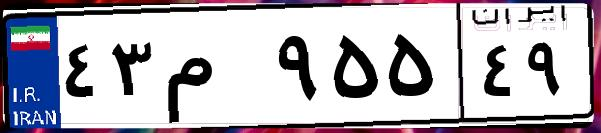3: (110, 28, 158, 98)
4: (57, 26, 110, 100), (475, 38, 525, 113)
5: (385, 28, 445, 110), (330, 28, 385, 110)
9: (270, 28, 330, 110), (525, 38, 570, 115)
م: (158, 20, 270, 120)
